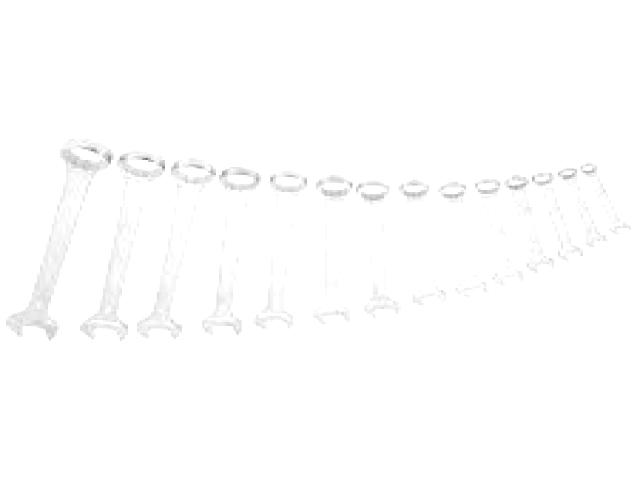Wrench: (6, 139, 112, 340), (80, 151, 165, 341), (136, 159, 215, 340), (201, 167, 261, 336), (254, 172, 308, 330), (356, 180, 401, 318), (399, 180, 446, 307), (312, 176, 352, 325), (439, 182, 489, 299), (475, 179, 524, 287), (505, 175, 555, 273), (532, 172, 582, 262), (558, 168, 608, 248), (580, 163, 631, 235)
